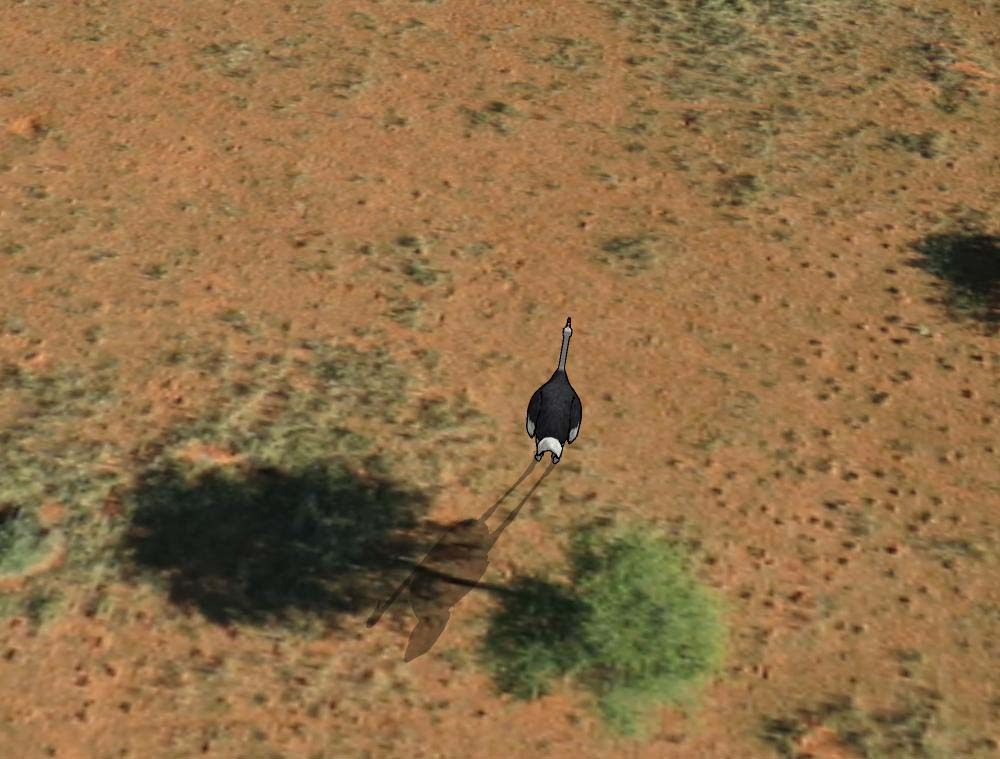ostrich: (518, 318, 599, 468)
